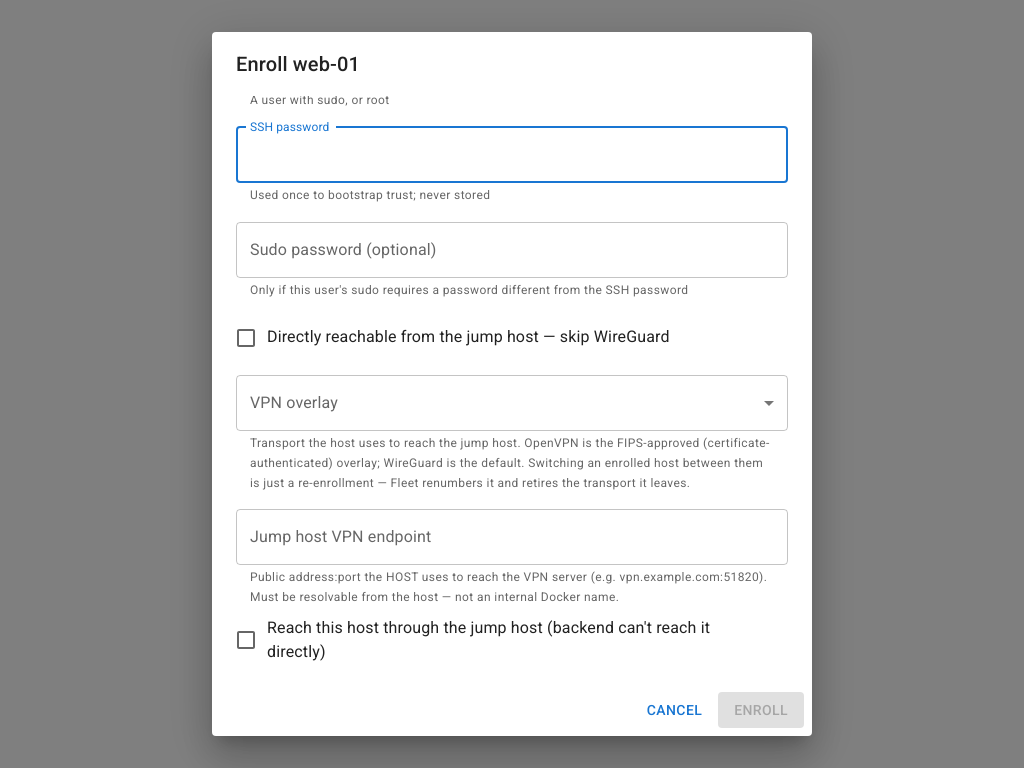
Test case: EnrollCredsDialog no-install VPN overlay › shows which pool and port a fresh host will use
(page scrolled)
Press the mouse on the dropdown named "VPN overlay" at (512, 403), box left=236, top=375, right=788, bottom=431
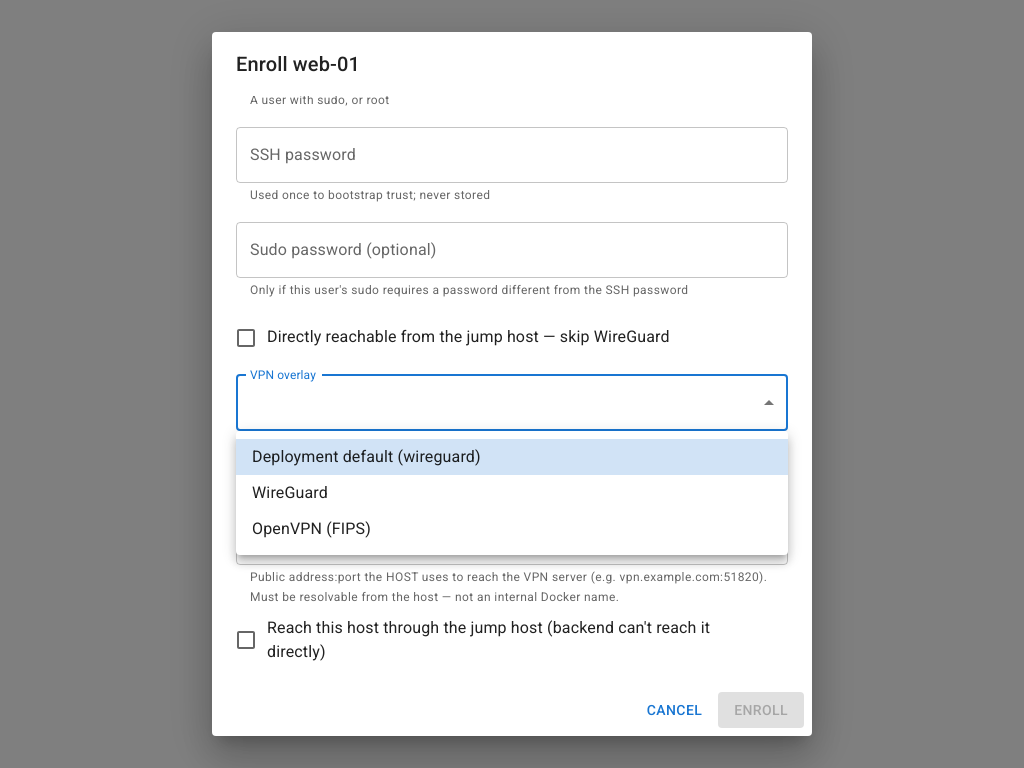
Click the option "OpenVPN (FIPS)" at (311, 528), box left=252, top=519, right=371, bottom=538
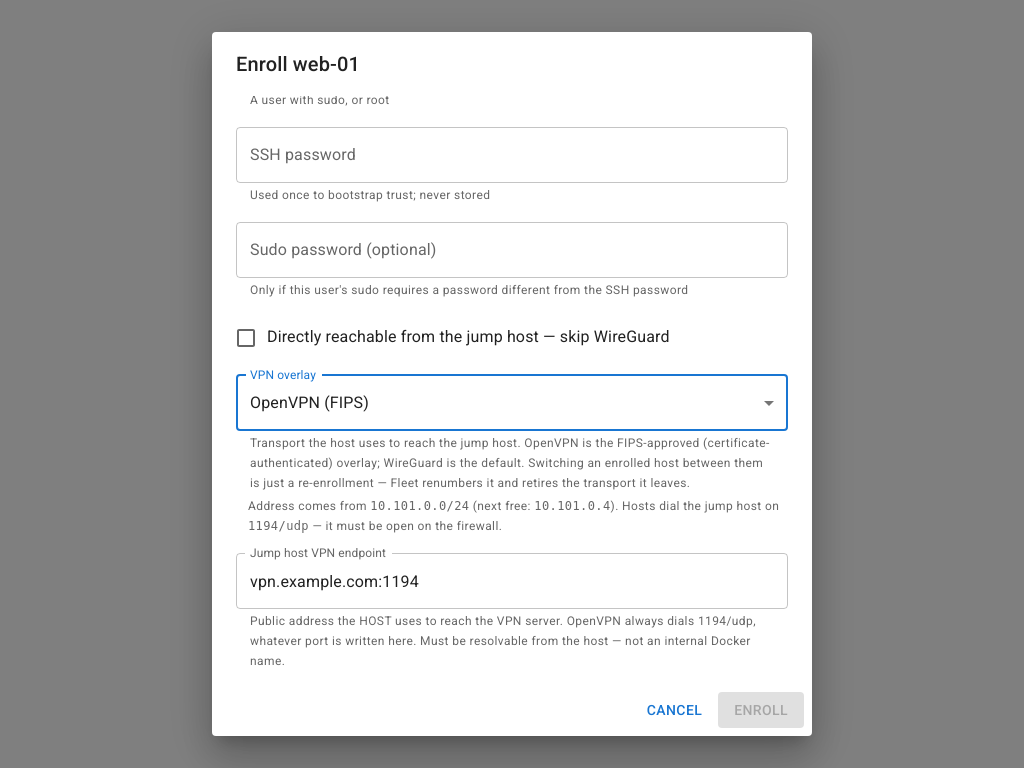
Expected: the text "must be open on the firewall" shows "10.101.0.0/24", left=370, top=500, right=469, bottom=514
Expected: the text "must be open on the firewall" shows "1194/udp", left=248, top=498, right=788, bottom=537
